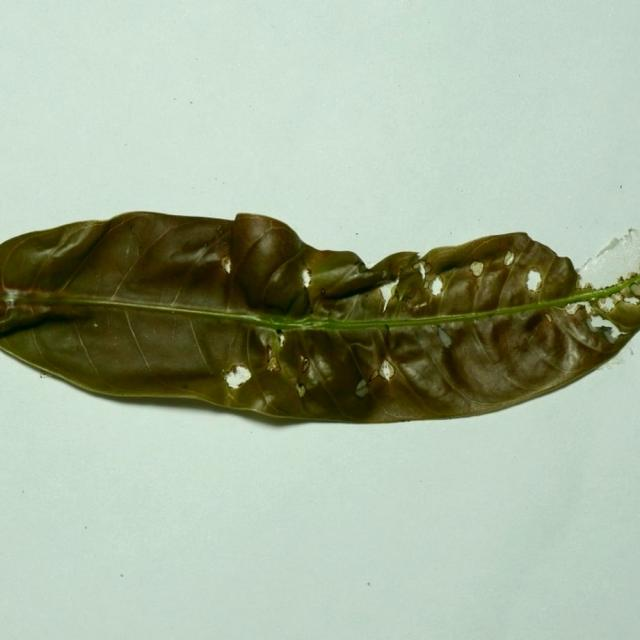Anthracnose: (223, 364, 255, 392), (378, 279, 399, 308), (524, 269, 542, 293), (428, 275, 444, 296), (379, 360, 394, 380), (597, 296, 615, 312), (470, 260, 485, 277), (300, 268, 312, 288), (221, 256, 232, 275), (503, 250, 515, 266)
Mango: (0, 212, 639, 429)
